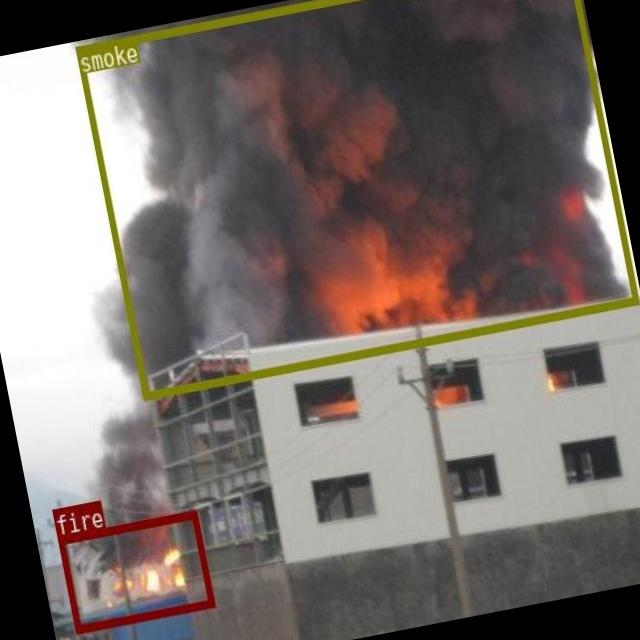fire: (56, 510, 214, 632)
smoke: (74, 0, 638, 398)
